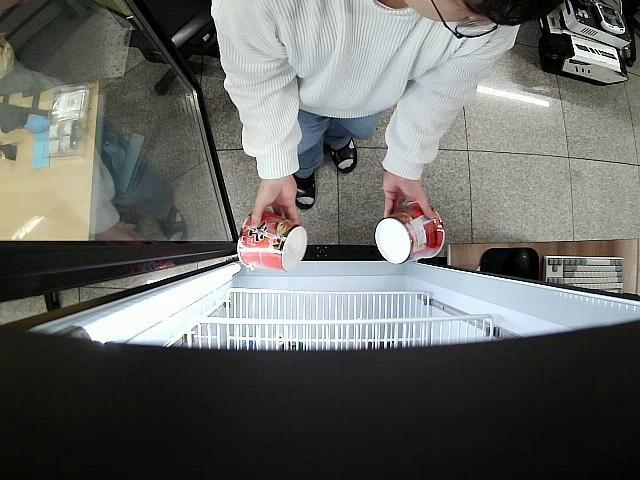01_ShinRamen_L: (236, 210, 308, 275), (372, 203, 447, 265)
